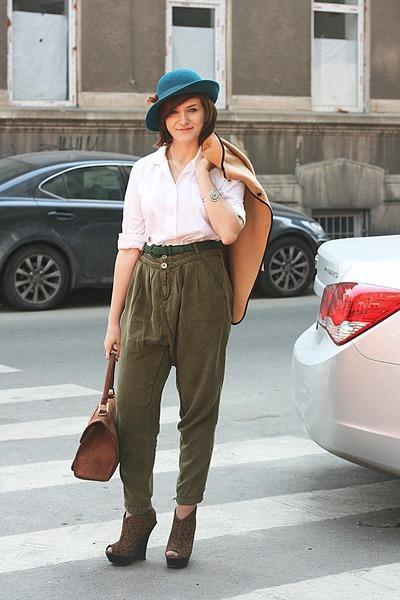bag: (71, 352, 138, 481)
hat: (146, 71, 218, 122)
jacket: (207, 135, 271, 321)
pants: (109, 239, 248, 515)
shirt: (117, 146, 245, 248)
shoe: (108, 503, 195, 570)
